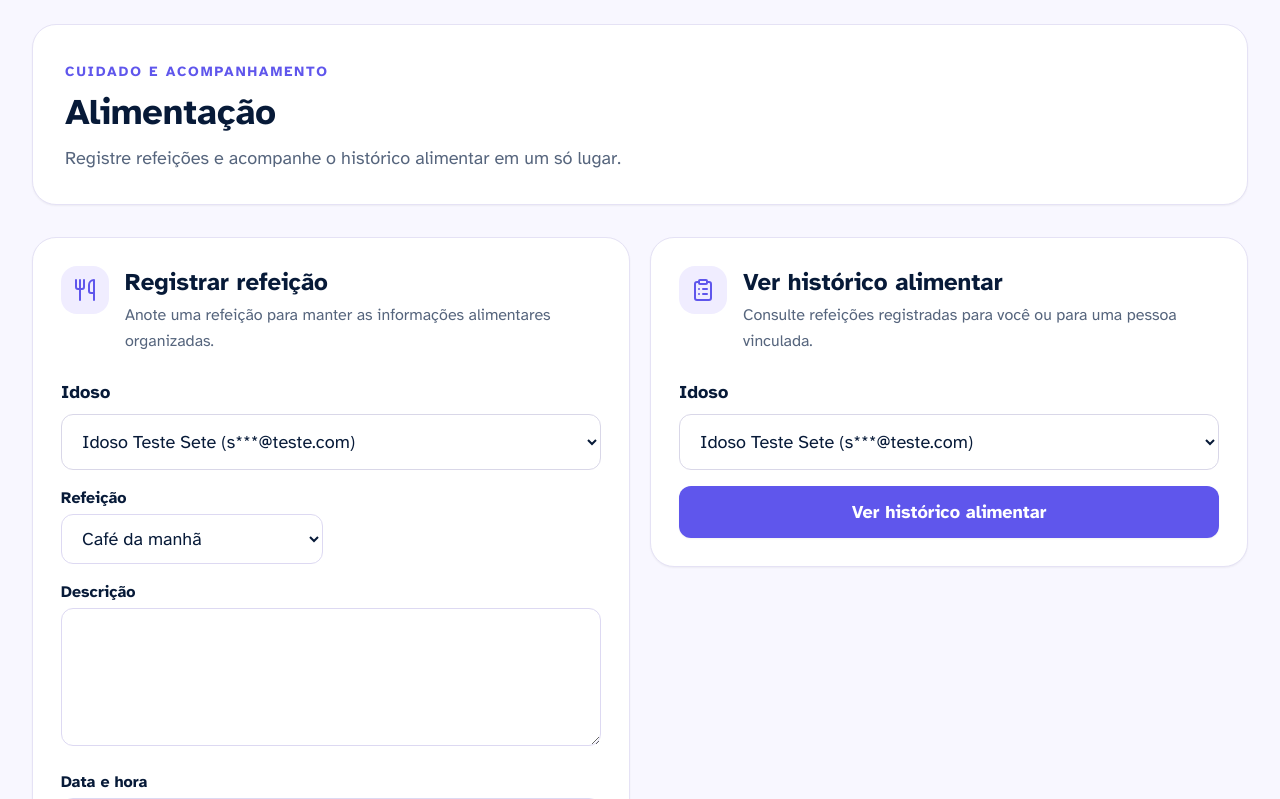
Alimentacao: acessibilidade da seção Ver histórico alimentar (item 7.2) › carregando (botão ocupado e status de carregando)
Click the button "Ver histórico alimentar": (949, 512) [679, 486, 1219, 538]
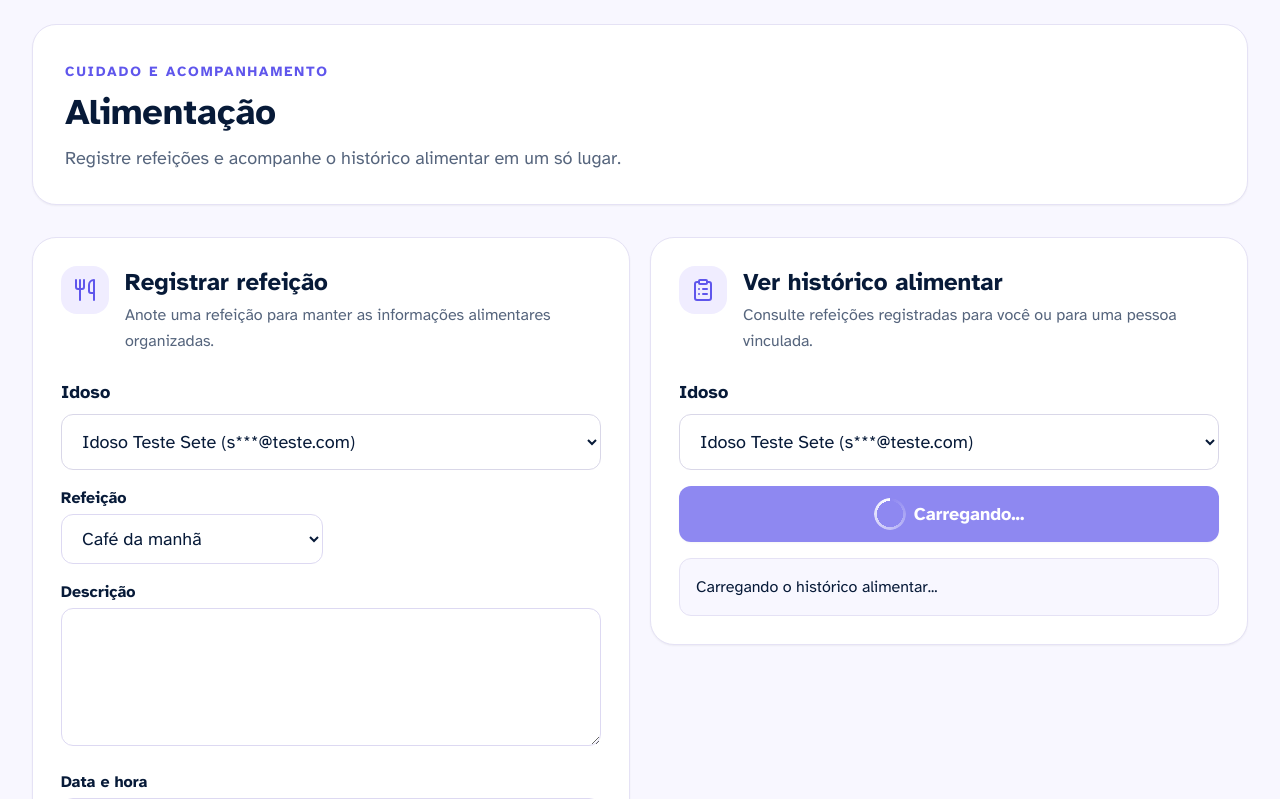
expect the message "Carregando o histórico alimentar..." is shown: met, box [679, 558, 1219, 616]
